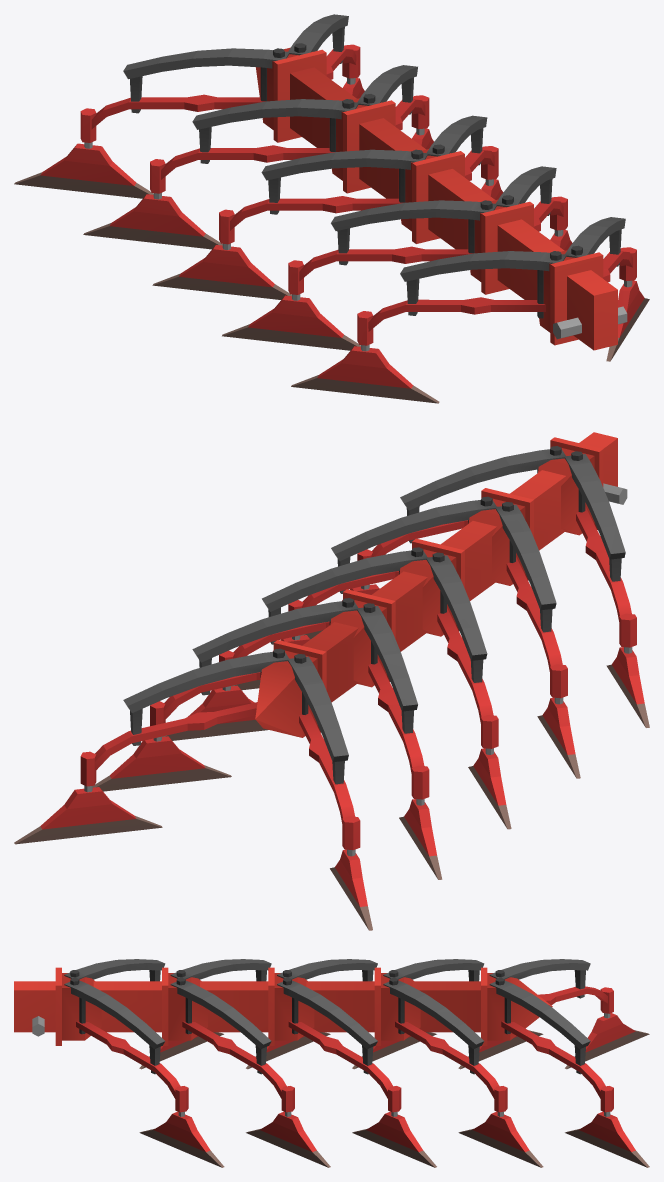
Rendered from trailer_002.glb.
3 renders of one model, top to bottom at view 1: azimuth 30°, elevation 25°; view 2: azimuth 150°, elevation 25°; view 3: azimuth 270°, elevation 25°, orthographic. The views are drawn at different scales.
Visible parts, largest first — view 1: trailer_002; view 2: trailer_002; view 3: trailer_002.
Boxes of the visible parts, left/top/right/bottom form: trailer_002: left=14, top=14, right=649, bottom=403; trailer_002: left=14, top=432, right=649, bottom=930; trailer_002: left=14, top=959, right=649, bottom=1167.
Bounding box in the file's own units: 3.26 × 1.41 × 6.51.
Materials: 1 (1 with a texture image).
